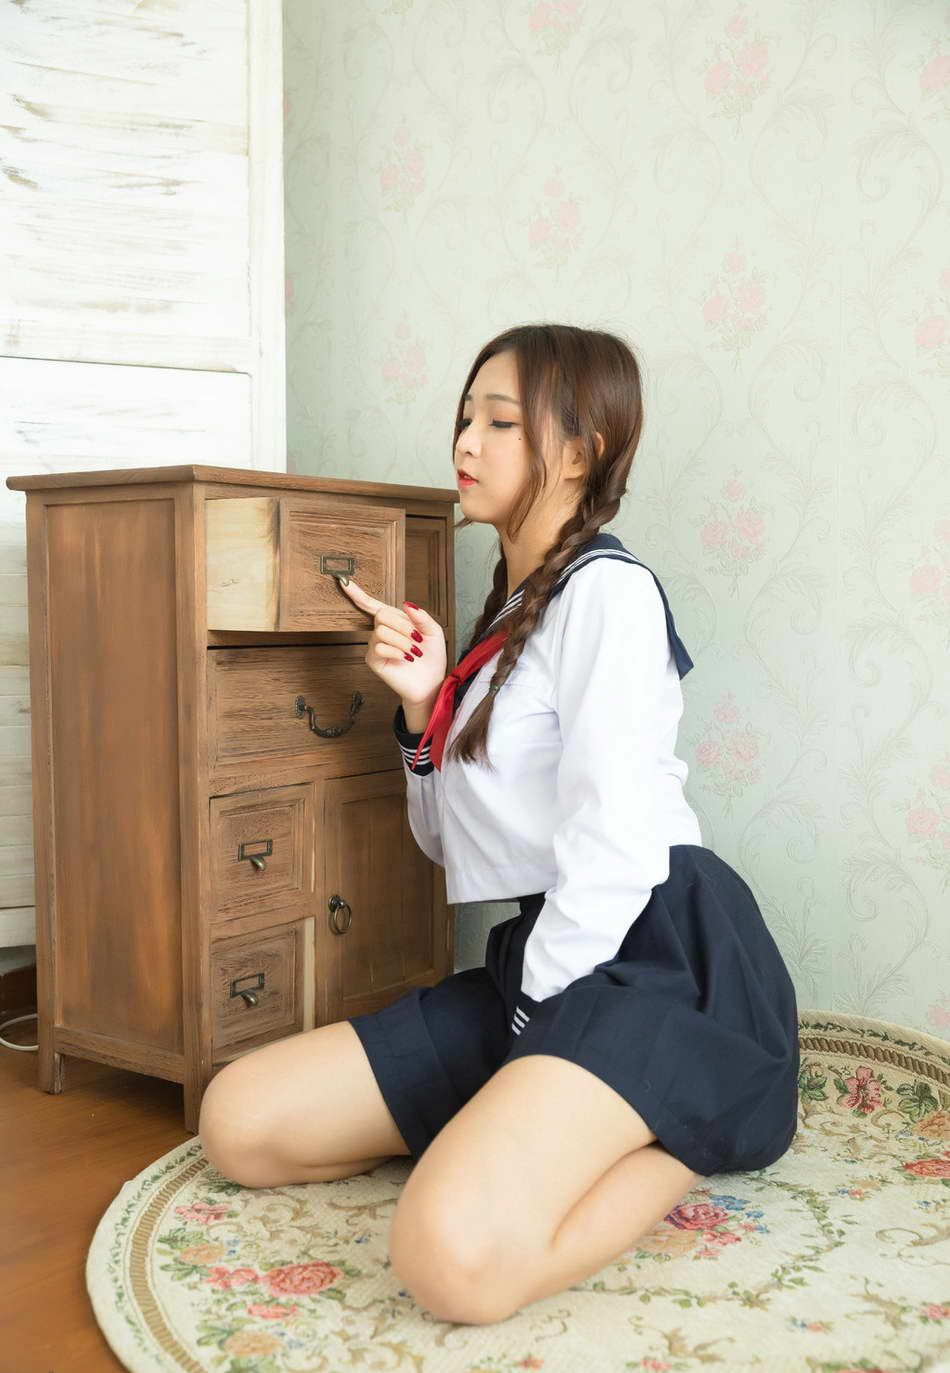person: (308, 261, 777, 1313)
